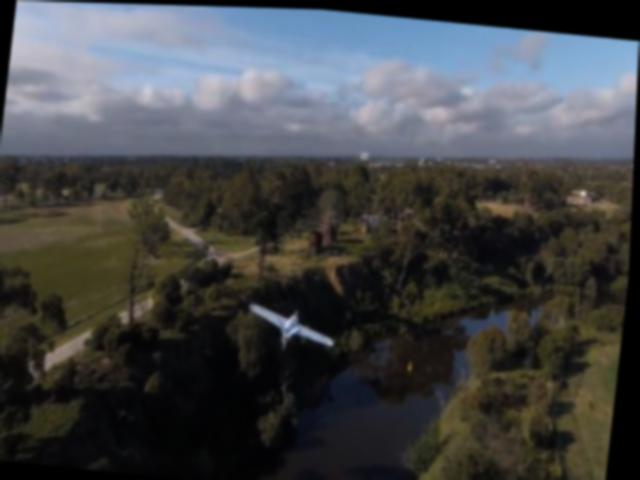uav: (245, 298, 342, 356)
